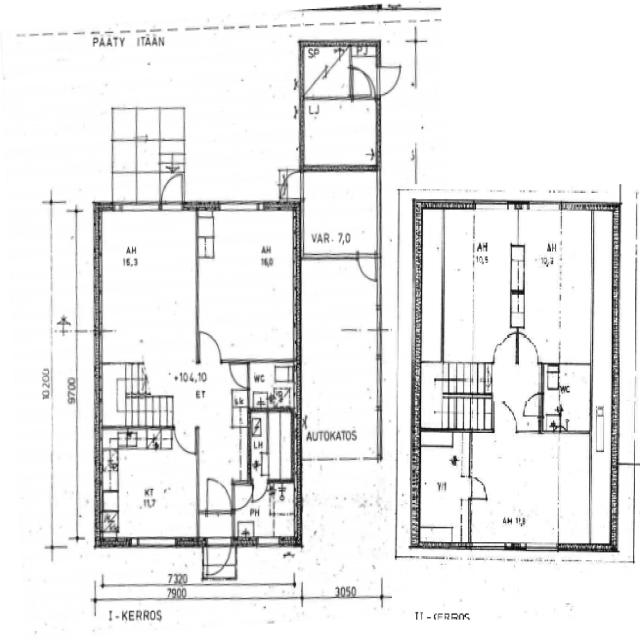door: (233, 483, 296, 543), (202, 540, 235, 580), (203, 475, 233, 515), (159, 170, 186, 211), (196, 328, 224, 366), (490, 330, 518, 367), (376, 62, 404, 96), (516, 332, 542, 367), (350, 66, 376, 100), (492, 399, 518, 432), (173, 424, 198, 456), (230, 481, 254, 512), (356, 252, 379, 284), (282, 170, 304, 202), (228, 361, 251, 391), (468, 473, 490, 502), (522, 391, 544, 418), (250, 478, 269, 505)
window: (113, 198, 161, 216), (217, 198, 264, 216), (303, 250, 358, 264), (132, 535, 177, 551), (373, 355, 384, 409), (526, 199, 562, 215), (472, 198, 510, 213), (471, 539, 509, 554), (523, 540, 560, 554), (255, 535, 282, 551)
zone: (97, 204, 199, 392), (301, 257, 382, 461), (196, 206, 298, 363), (440, 206, 523, 365), (513, 209, 594, 367), (101, 432, 199, 544), (301, 170, 379, 258), (417, 430, 471, 547), (301, 97, 379, 169), (232, 482, 299, 544), (248, 410, 297, 482), (542, 364, 592, 433), (301, 44, 352, 100), (248, 360, 296, 410)
